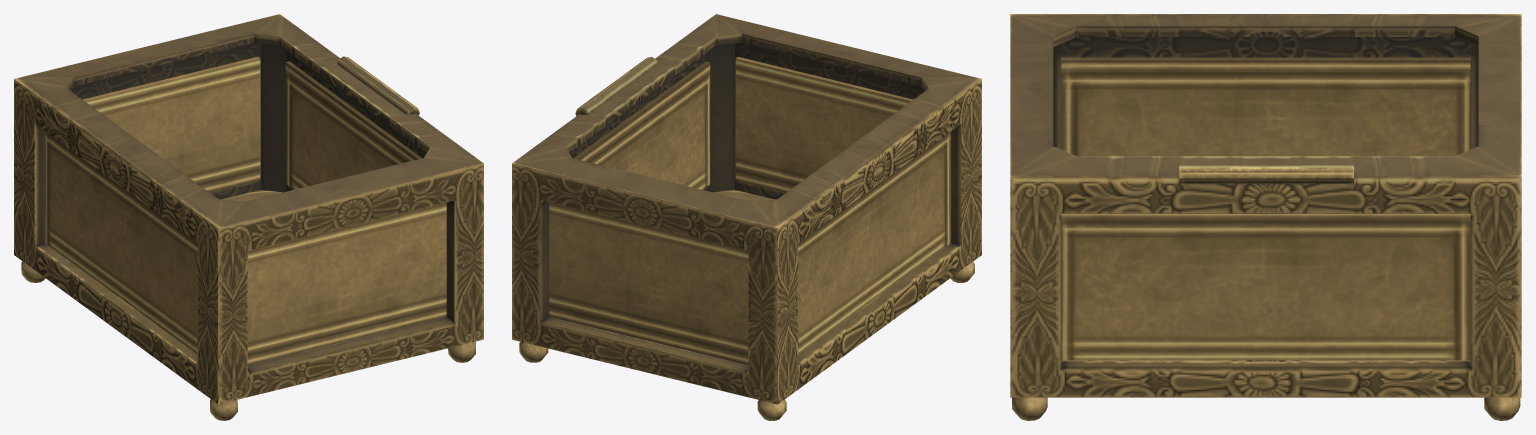
File: SM_Jewelry_Box_B_Gold.fbx
The picture shows the model from 3 angles, left to right: view 1: azimuth 30°, elevation 25°; view 2: azimuth 150°, elevation 25°; view 3: azimuth 270°, elevation 25°; orthographic projection. The views are drawn at different scales.
Parts seen in each view (by area): view 1: SM_Jewelry_Box_B_Gold_LOD0; view 2: SM_Jewelry_Box_B_Gold_LOD0; view 3: SM_Jewelry_Box_B_Gold_LOD0.
Boxes of the visible parts, x1,y1,x2,y2 form: SM_Jewelry_Box_B_Gold_LOD0: [14, 14, 483, 420]; SM_Jewelry_Box_B_Gold_LOD0: [512, 14, 981, 420]; SM_Jewelry_Box_B_Gold_LOD0: [1010, 14, 1521, 420].
Size of the model in its own units: 16.49 by 21.64 by 12.18.
1 material, 1 textured.
